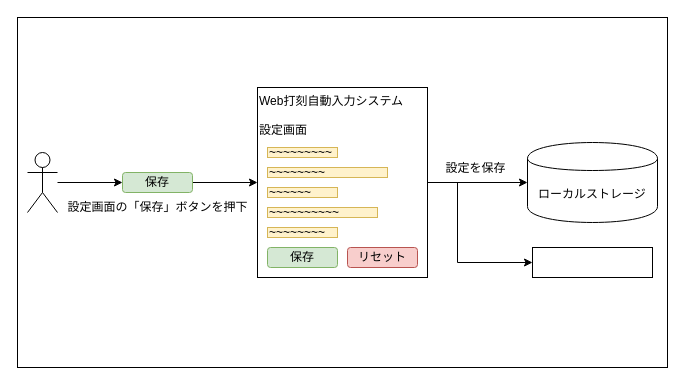
Image size: 685x385. Some labels were removed from this diagram. Here are the shapes that lost their labels. From the top down, the centre of each, then its label:
At (x=42, y=182): "ユーザ".
At (x=592, y=262): "通知を表示".
